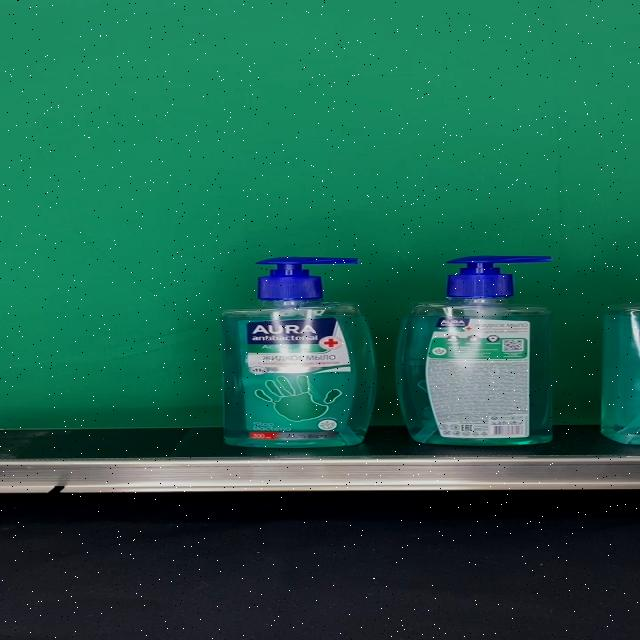Bottle: (395, 256, 556, 447), (218, 257, 376, 448)
Cap: (256, 257, 360, 299), (446, 256, 552, 296)
